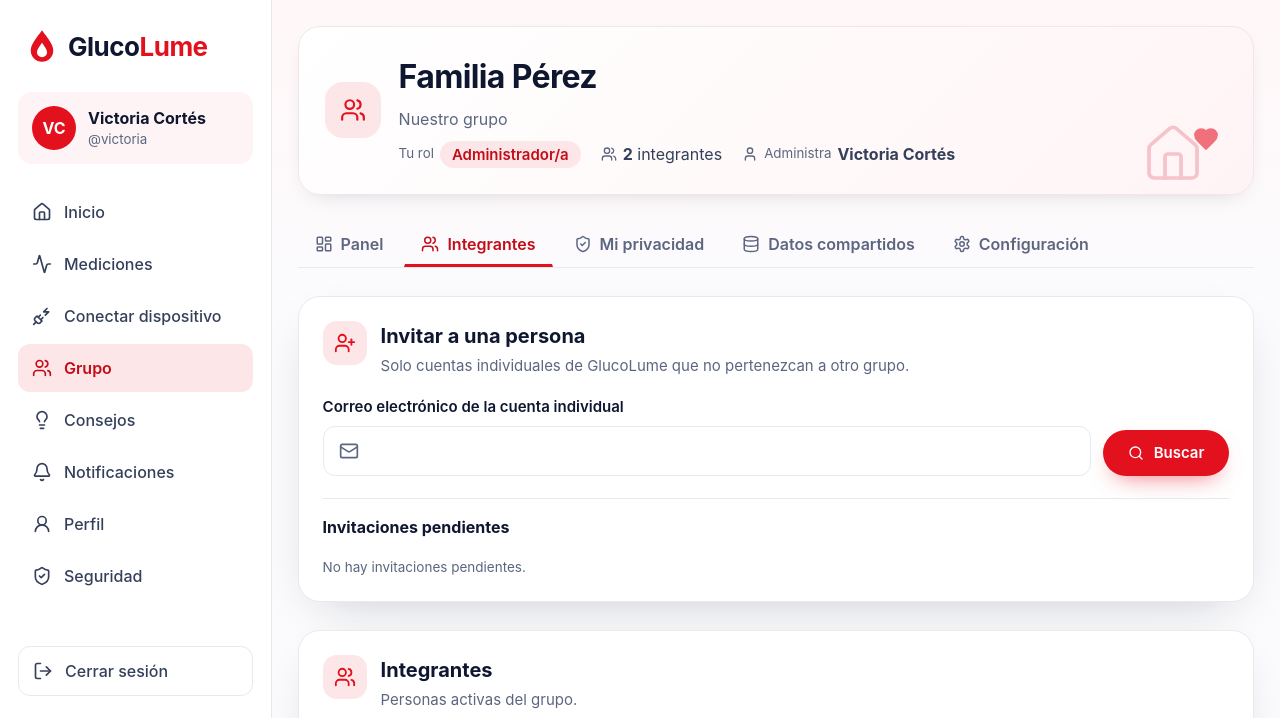
Test case: Invitaciones (administrador) › invita, la invitación queda pendiente y se puede cancelar
Type "carla@example.com" into the field labelled "Correo electrónico de la cuenta individual" at (707, 451), box [323, 426, 1091, 476]
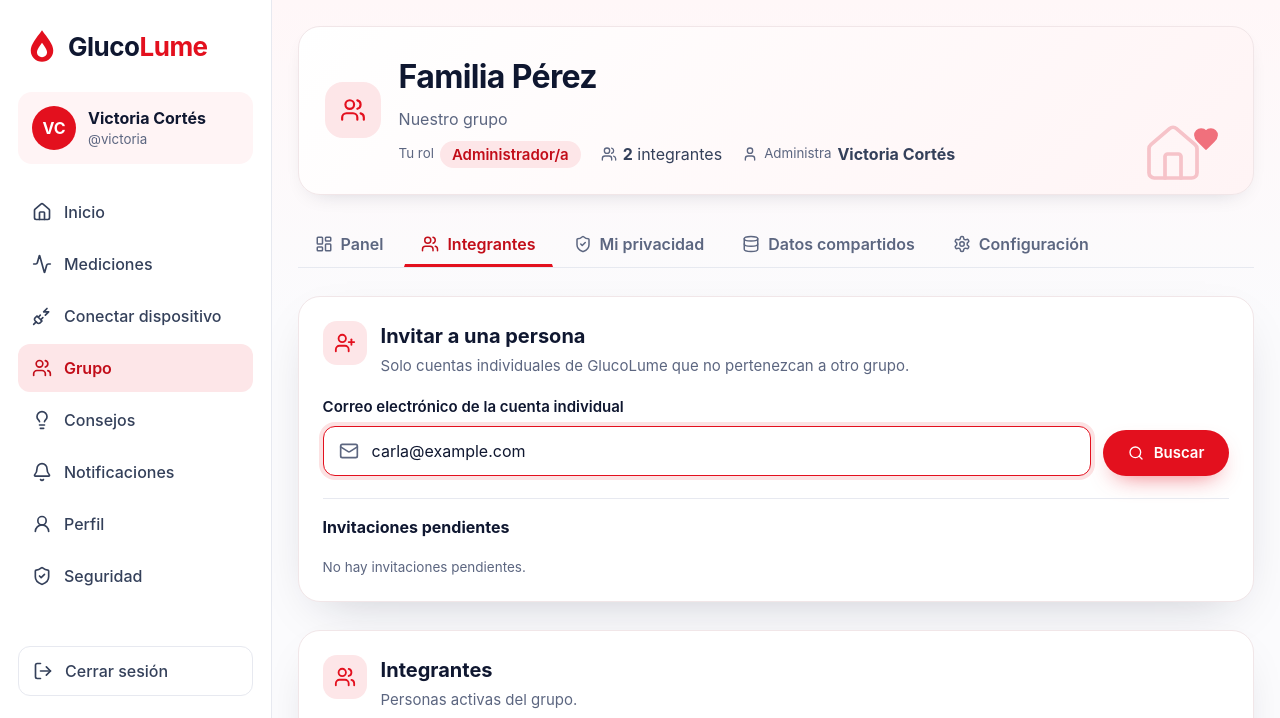
Click the button "Buscar" at (1166, 453), box [1103, 430, 1229, 476]
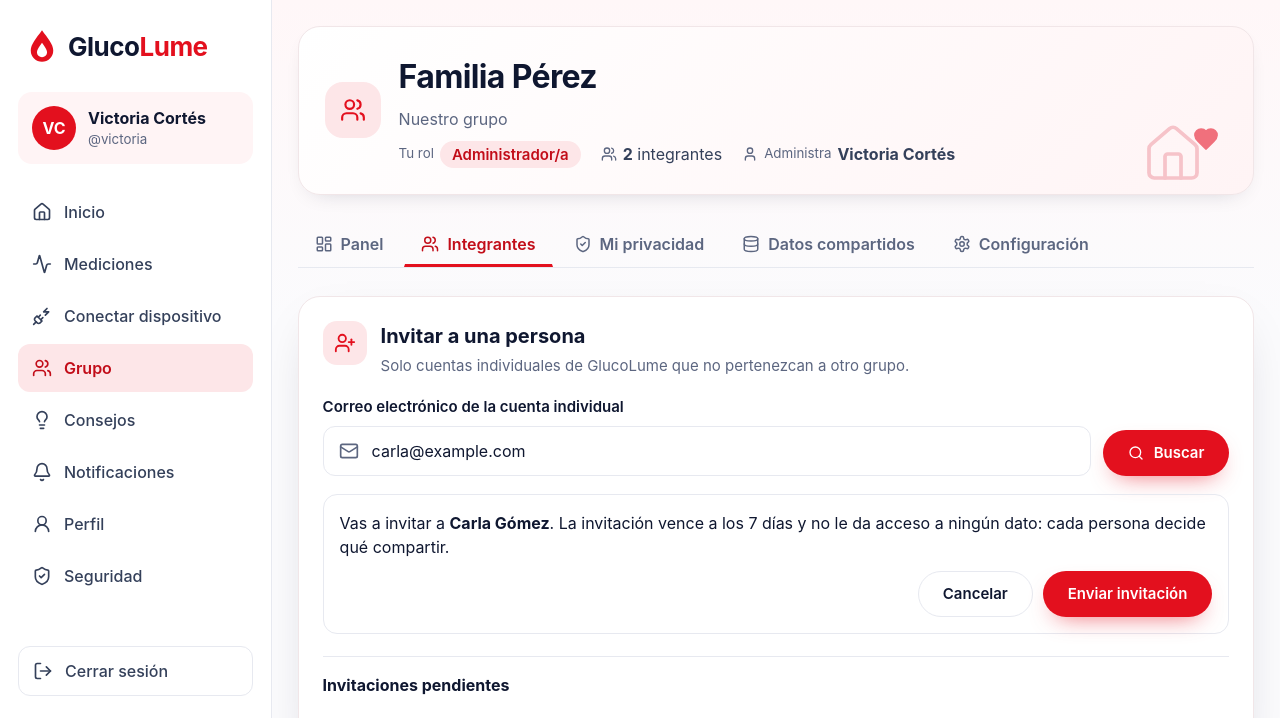
Click the button "Enviar invitación" at (1128, 594), box [1043, 571, 1212, 617]
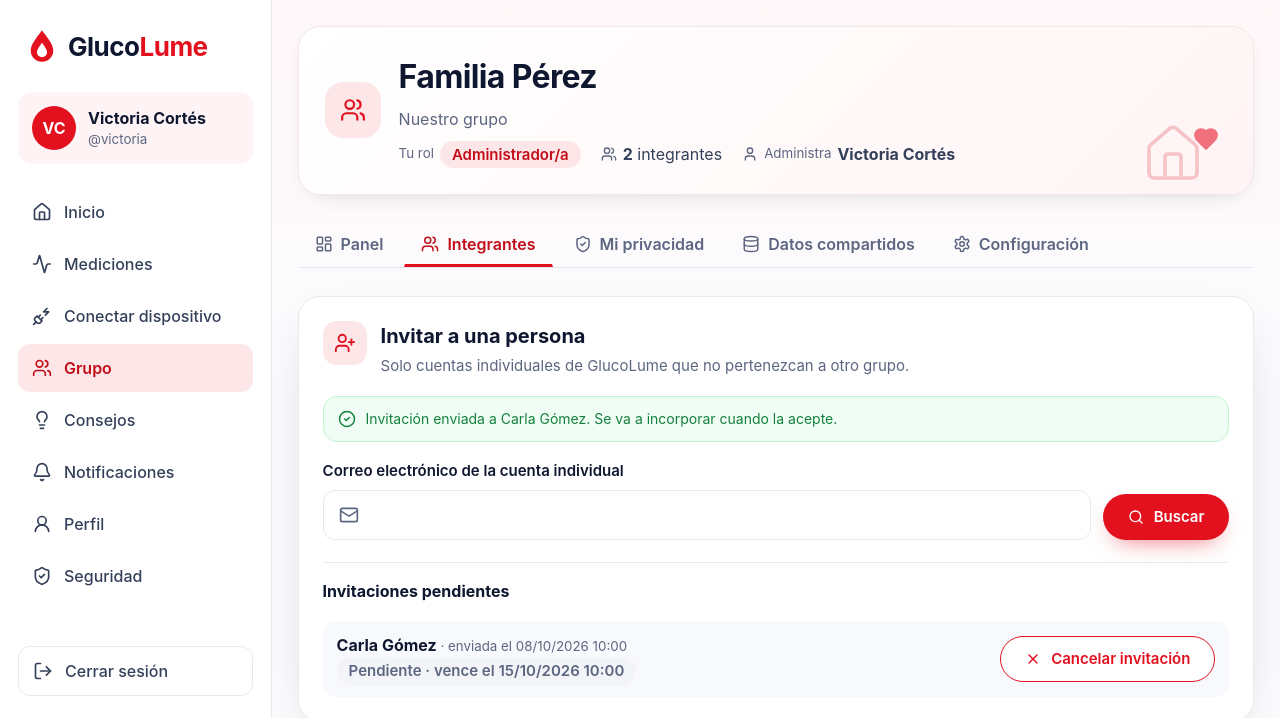
expect the text "Invitación enviada a Carla Gómez" is shown: met, box [366, 410, 837, 427]
expect the text "Pendiente · vence el 15/10/2026 10:00" is shown: met, box [337, 657, 636, 685]
Click the button with aria-label "Cancelar invitación de Carla Gómez" at (1108, 659), box [1000, 636, 1215, 682]
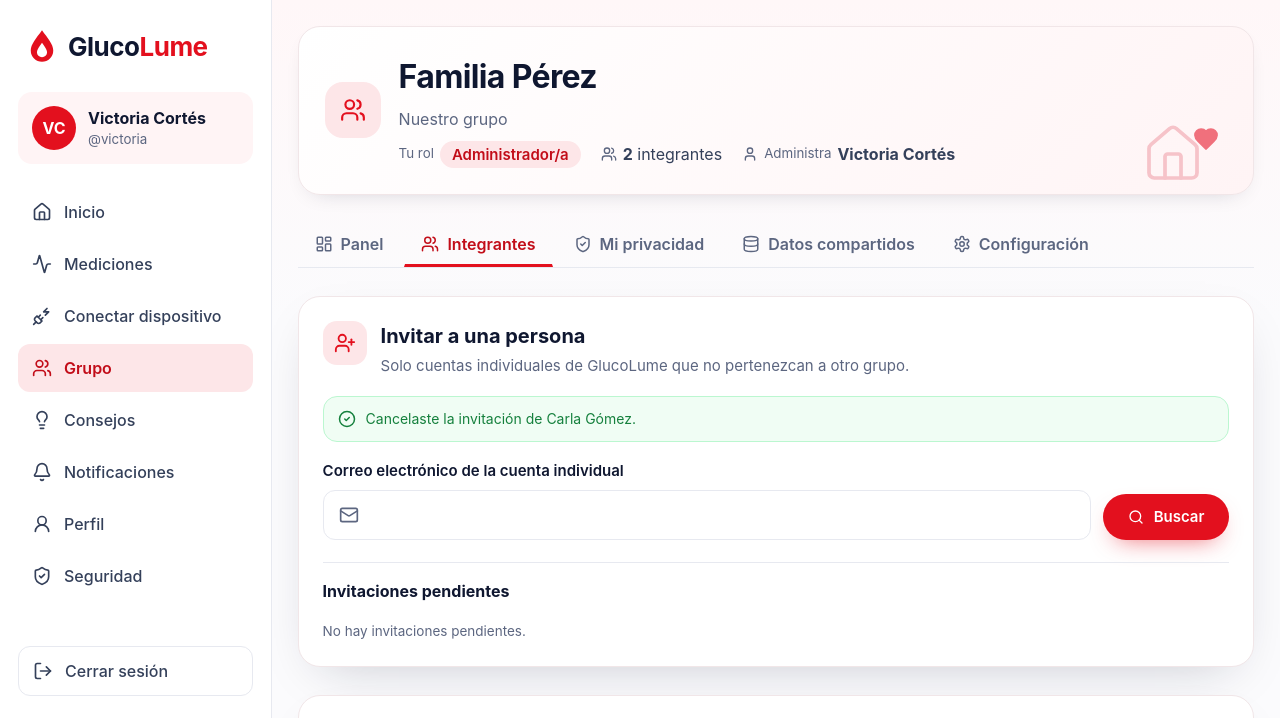
expect the text "No hay invitaciones pendientes." is shown: met, box [323, 623, 526, 639]
